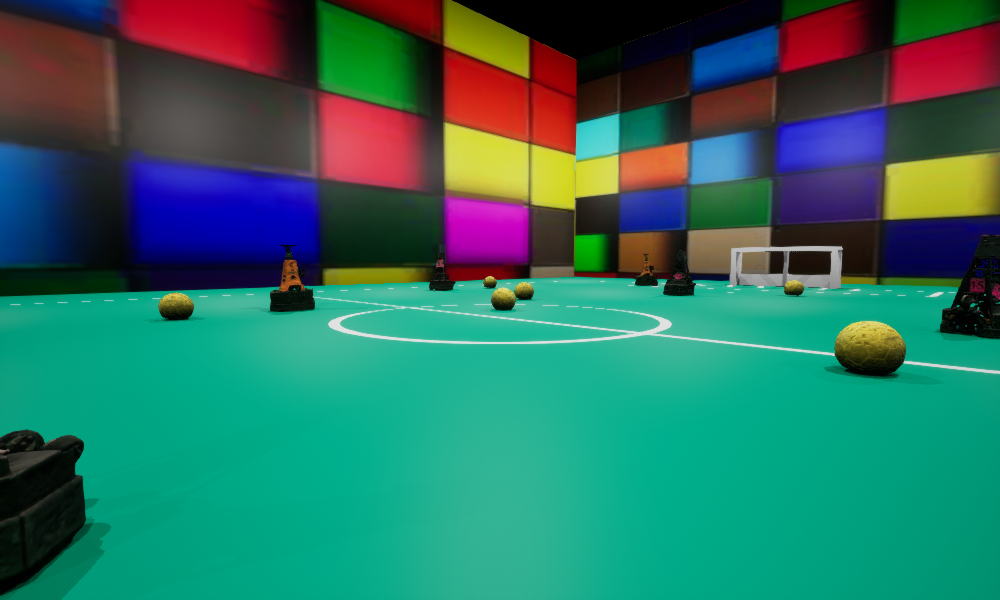b: (834, 321, 905, 374), (158, 292, 193, 319), (491, 287, 515, 309), (514, 282, 533, 299), (784, 280, 803, 295), (483, 276, 496, 287)
o: (270, 244, 314, 311), (635, 254, 657, 285)
p1: (940, 235, 999, 338), (663, 250, 695, 295)
p2: (0, 429, 85, 595), (429, 253, 455, 290)
